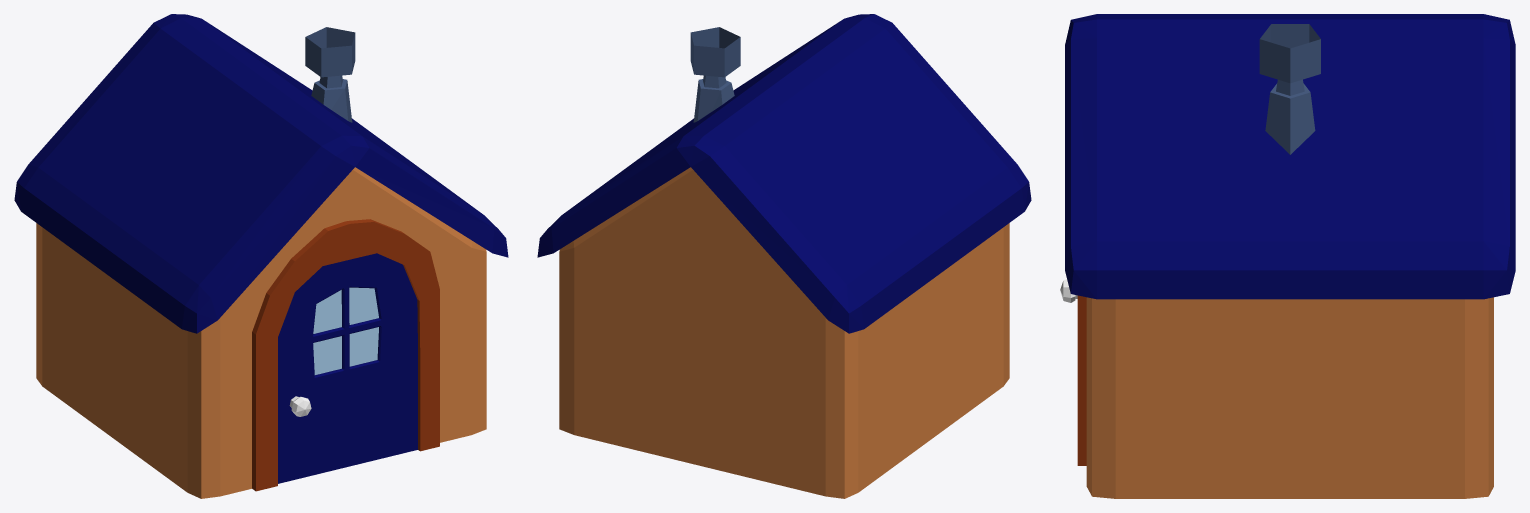
The model's file is house_blue.fbx.
The picture shows the model from 3 angles, left to right: view 1: azimuth 30°, elevation 25°; view 2: azimuth 150°, elevation 25°; view 3: azimuth 270°, elevation 25°; orthographic projection. The views are drawn at different scales.
Parts seen in each view (by area): view 1: house; view 2: house; view 3: house.
Boxes of the visible parts, x1,y1,x2,y2 form: house: (14, 14, 508, 498); house: (537, 14, 1031, 498); house: (1060, 14, 1515, 498).
Bounding box in the file's own units: 273 × 284 × 280.
